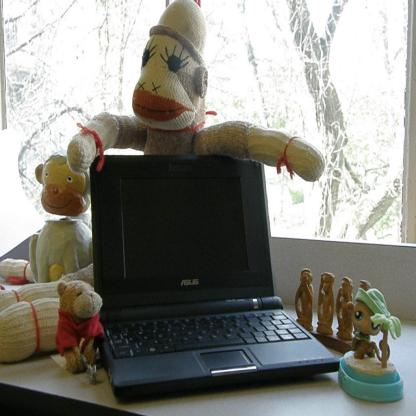board: (90, 142, 339, 402)
